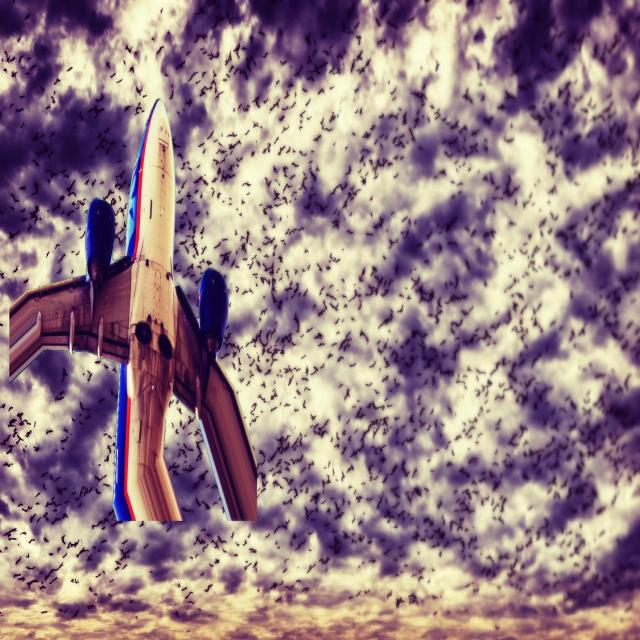airplane: (8, 97, 259, 525)
